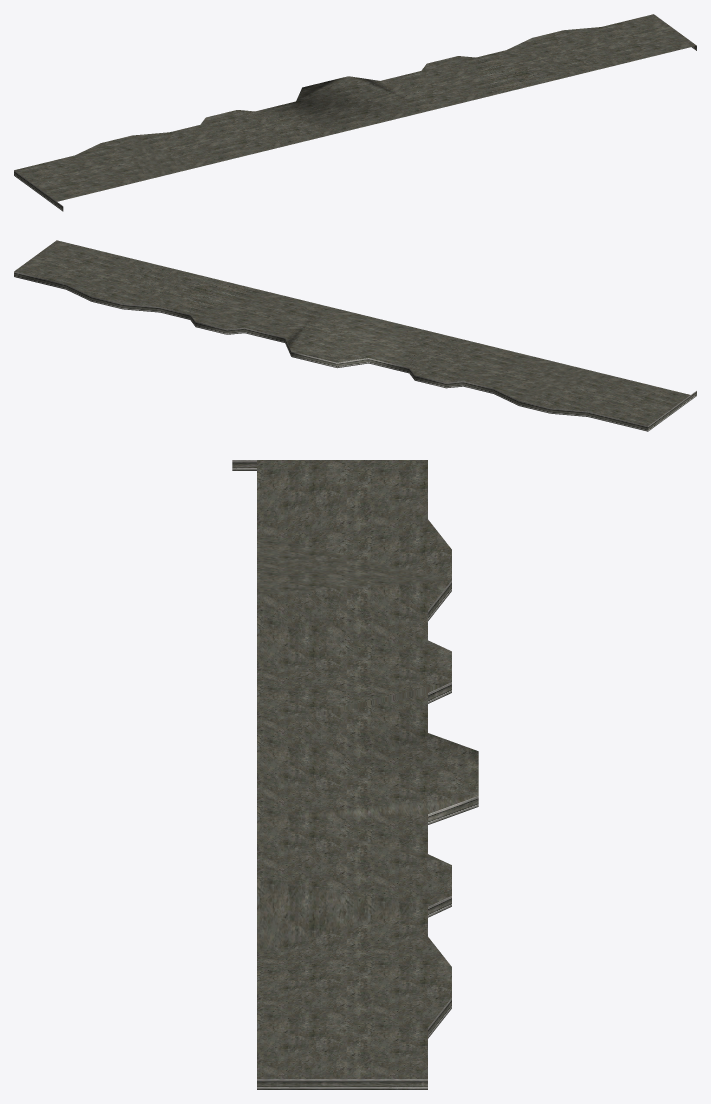
File: DWARF_PALACE_MAINHALL_UPPER_FLOOR02.fbx
3 renders of one model, top to bottom at view 1: azimuth 30°, elevation 25°; view 2: azimuth 150°, elevation 25°; view 3: azimuth 270°, elevation 25°, orthographic. The views are drawn at different scales.
Parts seen in each view (by area): view 1: DWARF_PALACE_MAINHALL_UPPER_FLOOR02; view 2: DWARF_PALACE_MAINHALL_UPPER_FLOOR02; view 3: DWARF_PALACE_MAINHALL_UPPER_FLOOR02.
Boxes of the visible parts, box(x1,y1,x2,y2) form: DWARF_PALACE_MAINHALL_UPPER_FLOOR02: box(14, 14, 696, 211); DWARF_PALACE_MAINHALL_UPPER_FLOOR02: box(14, 240, 696, 431); DWARF_PALACE_MAINHALL_UPPER_FLOOR02: box(232, 460, 478, 1089).
Bounding box in the file's own units: 608001 × 5000 × 102151.
3 materials, 3 textured.
